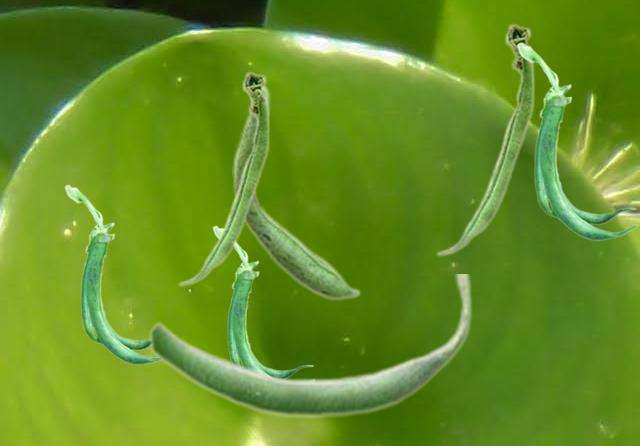french_bean: (148, 274, 472, 419), (232, 85, 360, 300), (516, 42, 637, 240), (435, 22, 534, 256), (177, 70, 269, 286), (64, 184, 158, 364), (212, 225, 314, 376)
